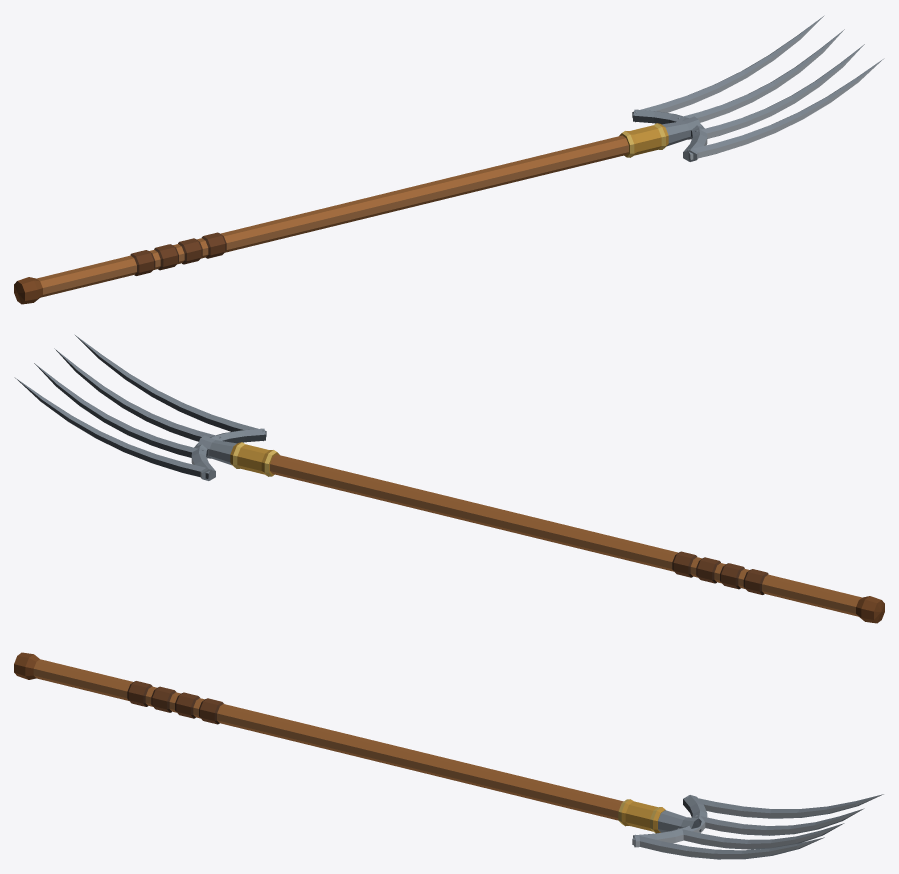
The model's file is pitchfork.glb.
3 views of the same model, one above another, from view 1: azimuth 30°, elevation 25°; view 2: azimuth 150°, elevation 25°; view 3: azimuth 330°, elevation 25° (orthographic).
Visible parts, largest first — view 1: pitchfork; view 2: pitchfork; view 3: pitchfork.
Part boxes in pixels (bbox=[...]): pitchfork: bbox=[14, 15, 884, 304]; pitchfork: bbox=[14, 334, 884, 623]; pitchfork: bbox=[14, 652, 883, 859].
Size of the model in its own units: 1.83 by 0.1342 by 0.231.
